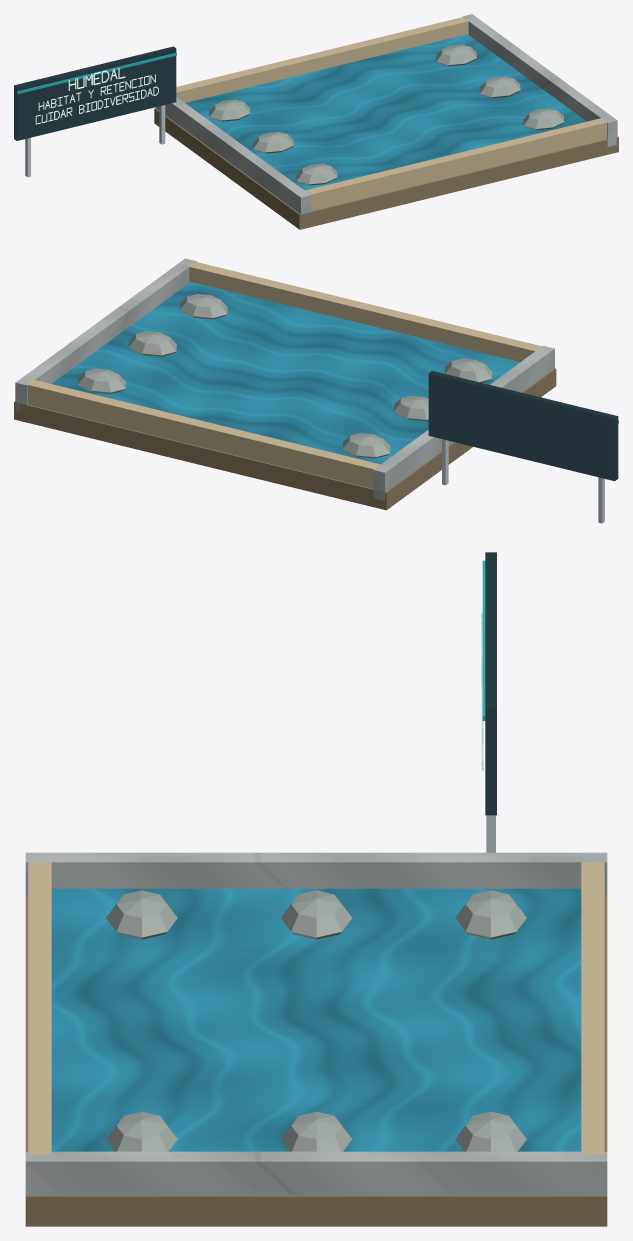
File: AQUA-023.glb
3 renders of one model, top to bottom at view 1: azimuth 30°, elevation 25°; view 2: azimuth 150°, elevation 25°; view 3: azimuth 270°, elevation 25°, orthographic. The views are drawn at different scales.
Parts seen in each view (by area): view 1: AQUA-023; view 2: AQUA-023; view 3: AQUA-023.
Boxes of the visible parts, left/top/right/bottom form: AQUA-023: left=14, top=14, right=618, bottom=229; AQUA-023: left=14, top=258, right=618, bottom=523; AQUA-023: left=25, top=552, right=607, bottom=1226.
Bounding box in the file's own units: 11.6 × 2.26 × 6.
9 materials, 2 textured.
